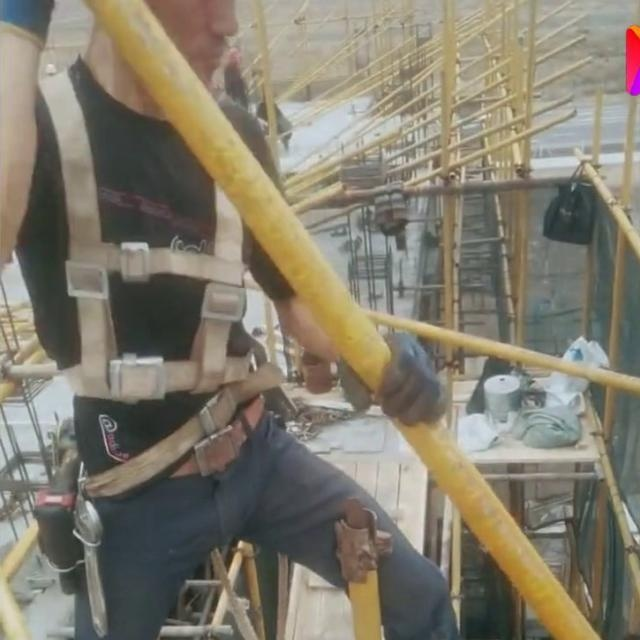Arnes_seguridad: (31, 53, 280, 402)
